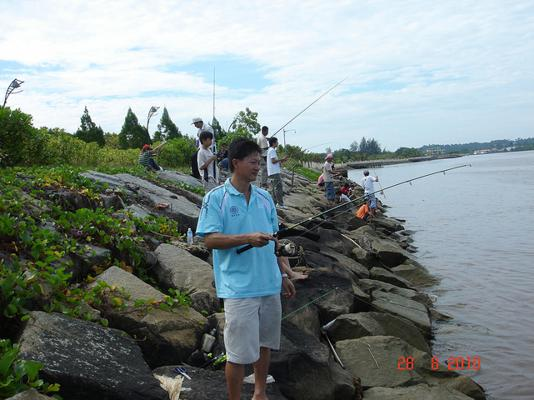person: (195, 137, 298, 400)
